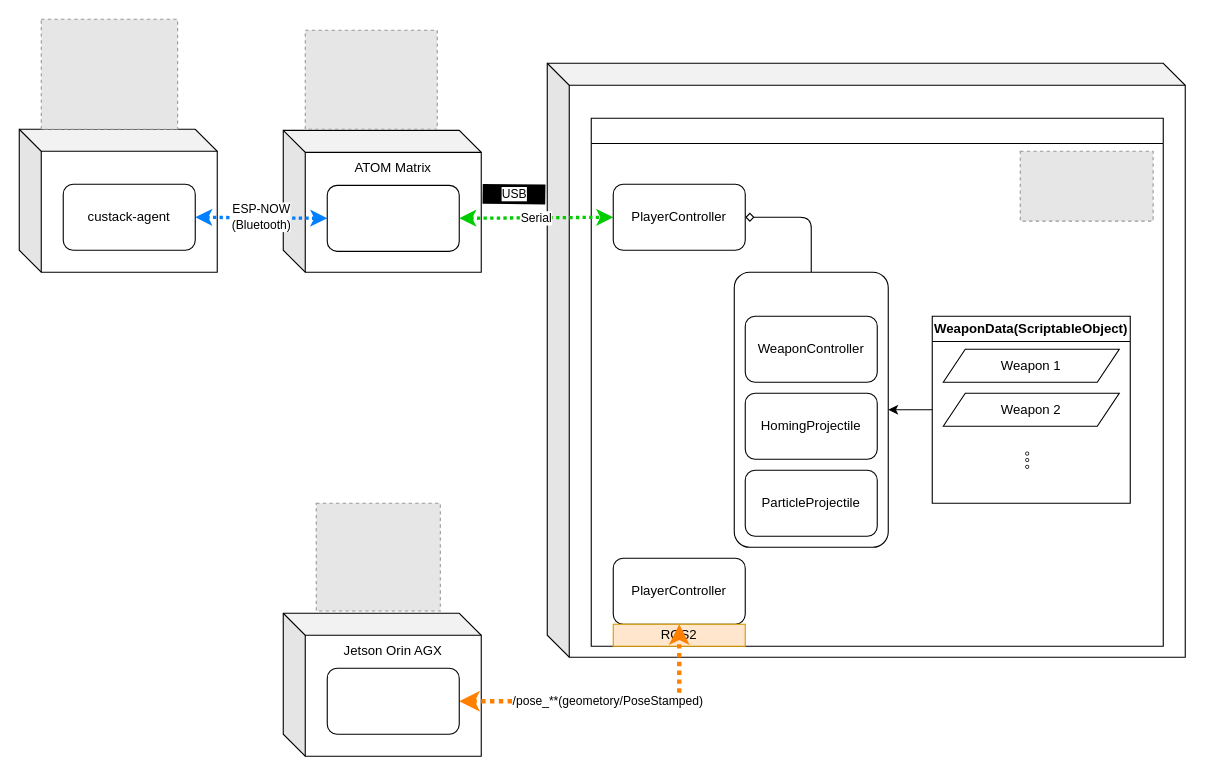
The diagram is 1205 pixels wide and 776 high, and some of its shapes have lost their labels. Grey dashed boxes stand in for pictures. The box of each missing label's shape, as (x1, y1, x2, y2) in pixels:
custack-host: (326, 184, 459, 251)
M5Stack Core2: (18, 128, 217, 272)
markerpos_pub: (326, 667, 459, 734)
PC: (546, 62, 1185, 657)
Unity: (590, 117, 1163, 646)
WeaponData: (733, 271, 888, 547)
